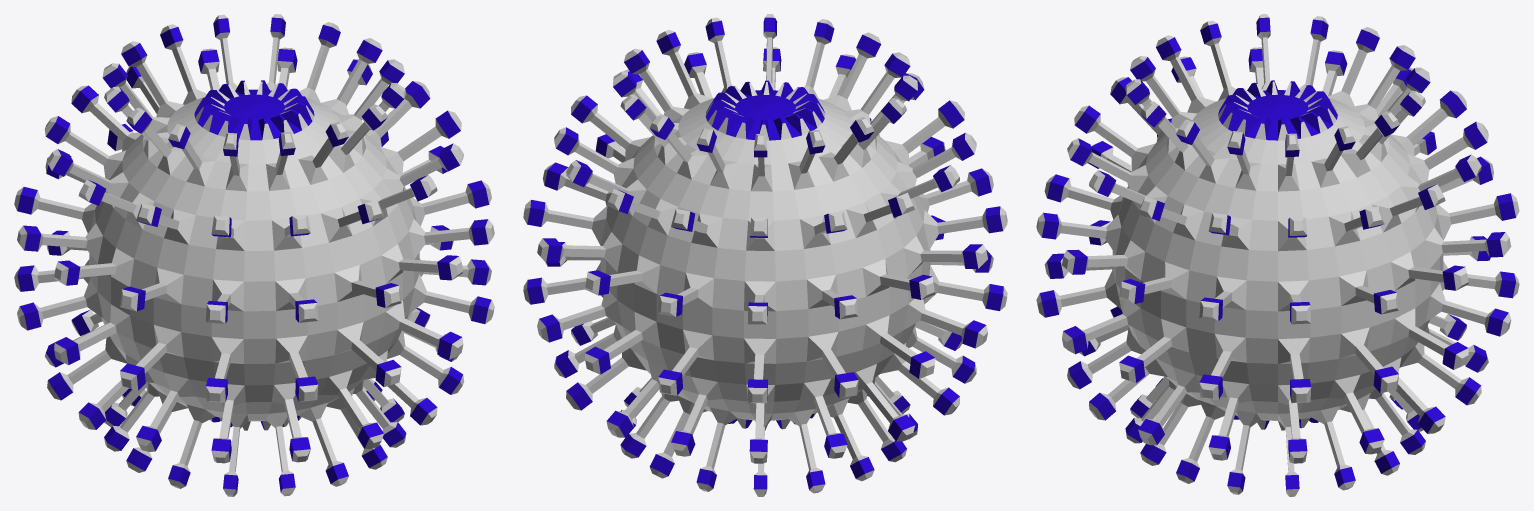
Rendered from Mine.fbx.
3 views of the same model, side by side, from view 1: azimuth 30°, elevation 25°; view 2: azimuth 150°, elevation 25°; view 3: azimuth 270°, elevation 25° (orthographic).
Parts seen in each view (by area): view 1: Sphere; view 2: Sphere; view 3: Sphere.
Boxes of the visible parts, box(x1,y1,x2,y2) form: Sphere: box(14, 14, 494, 496); Sphere: box(523, 14, 1007, 496); Sphere: box(1036, 14, 1519, 496).
Size of the model in its own units: 291 by 240 by 291.
